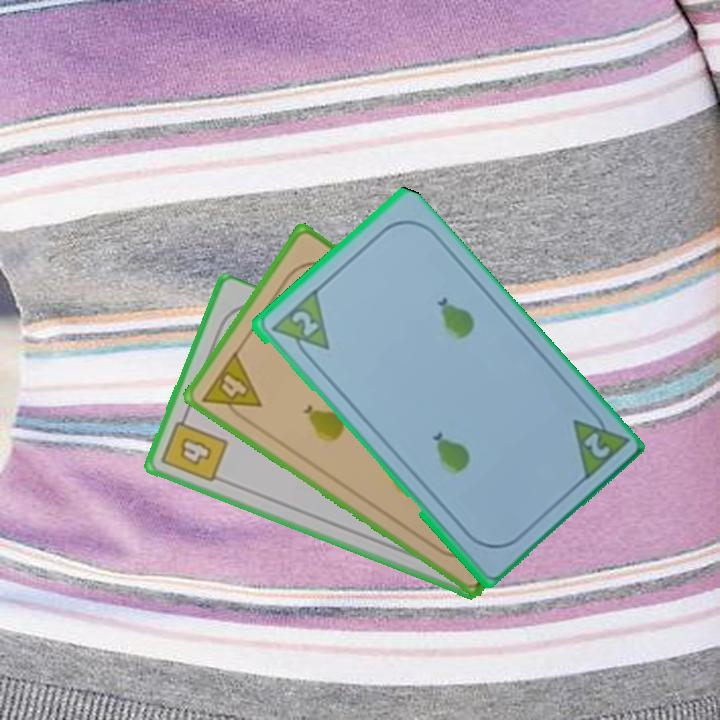2p: (287, 307, 321, 340), (579, 428, 612, 461)
4b: (158, 409, 231, 486)
4p: (198, 347, 265, 427)
